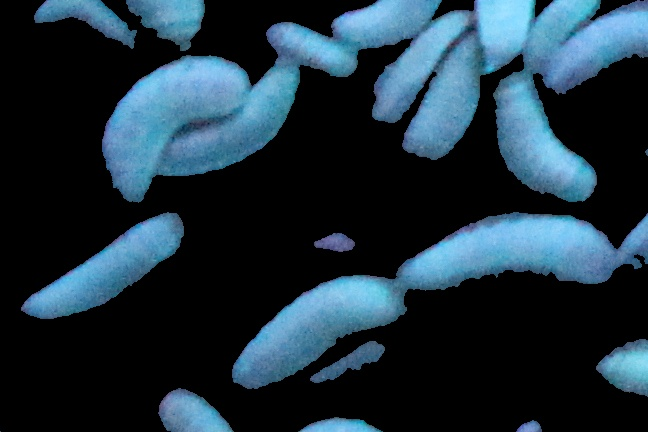larvae: (103, 57, 251, 200), (233, 273, 406, 388), (22, 211, 185, 320), (395, 215, 618, 289), (155, 61, 299, 175), (496, 72, 596, 201), (372, 12, 468, 121), (402, 34, 480, 157), (547, 6, 648, 90), (332, 1, 443, 50), (265, 22, 357, 77), (523, 1, 593, 72), (472, 1, 535, 71)
